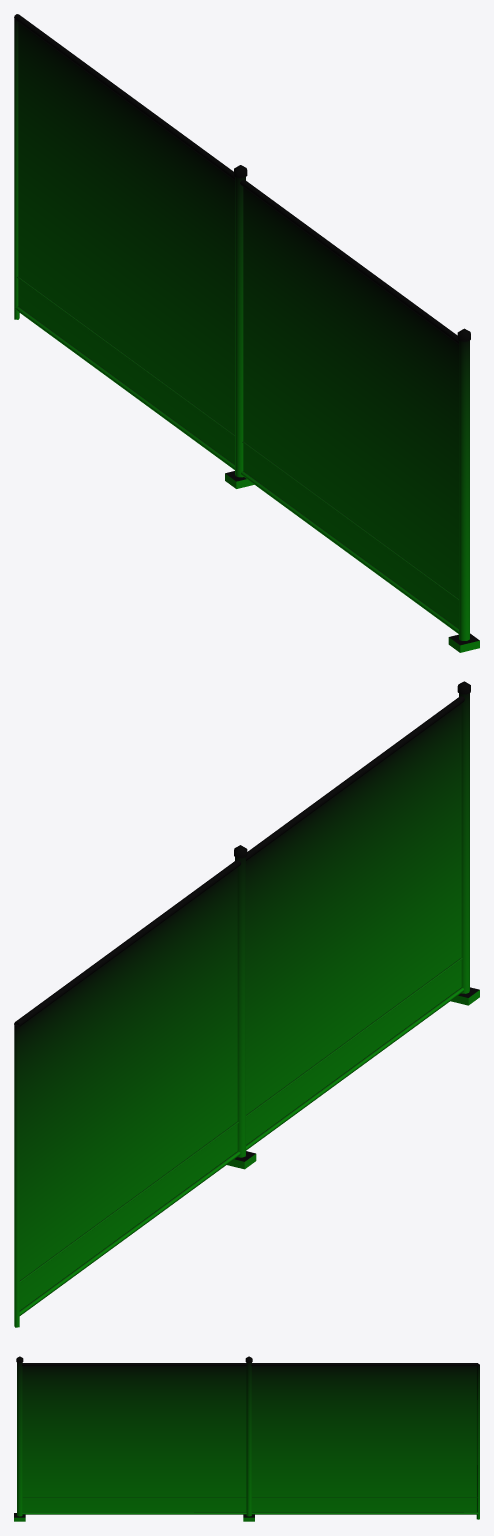
File: wirefence.glb
3 views of the same model, one above another, from view 1: azimuth 30°, elevation 25°; view 2: azimuth 150°, elevation 25°; view 3: azimuth 270°, elevation 25° (orthographic). The views are drawn at different scales.
Parts seen in each view (by area): view 1: lod0; view 2: lod0; view 3: lod0.
Part boxes in pixels (x1,y1,x2,y2): lod0: (14, 14, 479, 652); lod0: (14, 681, 479, 1327); lod0: (14, 1356, 479, 1521).
Size of what is drawn, in the model's own units: 0.22 by 3.37 by 8.74.
